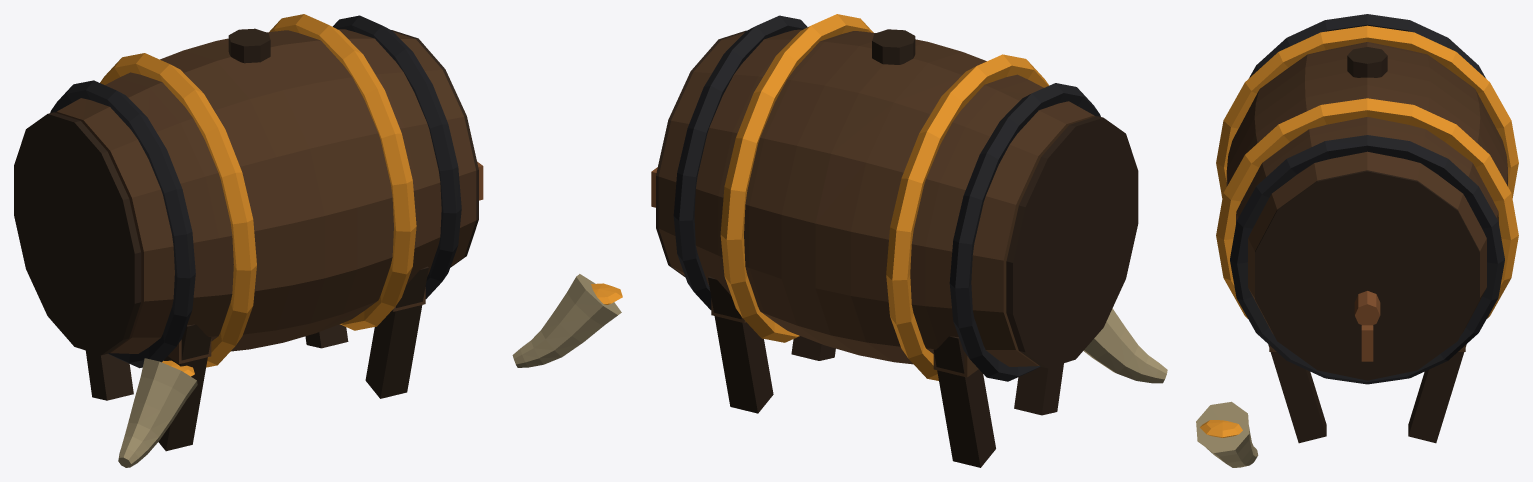
Rendered from VFP_Keg.obj.
3 views of the same model, side by side, from view 1: azimuth 30°, elevation 25°; view 2: azimuth 150°, elevation 25°; view 3: azimuth 270°, elevation 25° (orthographic). The views are drawn at different scales.
Parts seen in each view (by area): view 1: K_Barrel, K_Ends, K_Bands, K_Hoops, K_Stand, K_Horns, K_Bung, K_Horns_mead; view 2: K_Barrel, K_Ends, K_Bands, K_Hoops, K_Stand, K_Horns, K_Bung, K_Stand_wood; view 3: K_Ends, K_Barrel, K_Bands, K_Hoops, K_Stand, K_Horns, K_Tap, K_Bung, K_Horns_mead.
Boxes of the visible parts, x1,y1,x2,y2 form: K_Barrel: (55,29,476,353); K_Ends: (14,30,478,355); K_Bands: (100,14,416,367); K_Hoops: (50,15,461,368); K_Stand: (86,266,428,451); K_Horns: (118,274,621,467); K_Bung: (228,28,270,63); K_Horns_mead: (162,283,622,376); K_Barrel: (658,29,1095,366); K_Ends: (656,30,1138,368); K_Bands: (720,14,1048,380); K_Hoops: (673,15,1100,381); K_Stand: (708,276,1063,467); K_Horns: (1083,308,1167,383); K_Bung: (872,29,915,64); K_Stand_wood: (711,298,978,377); K_Ends: (1255,170,1479,380); K_Barrel: (1226,42,1507,334); K_Bands: (1216,25,1518,318); K_Hoops: (1230,14,1504,384); K_Stand: (1268,344,1466,443); K_Horns: (1196,401,1258,467); K_Tap: (1354,291,1380,361); K_Bung: (1347,47,1387,77); K_Horns_mead: (1200,420,1242,437).
Size of the model in its own units: 0.914 by 0.6369 by 0.5594.
